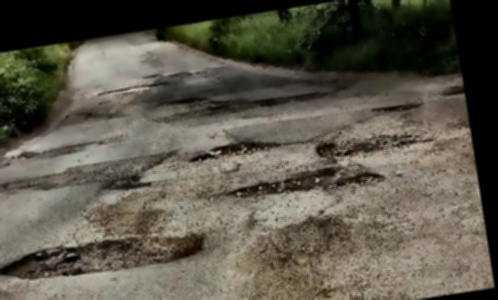pothole: (0, 221, 211, 291), (225, 157, 386, 208), (316, 128, 421, 163), (189, 135, 283, 163), (102, 171, 155, 196), (97, 80, 169, 97), (372, 97, 426, 116), (156, 93, 209, 110), (440, 84, 465, 97)
